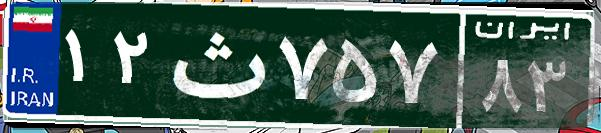1: (57, 26, 110, 107)
2: (110, 28, 158, 105)
3: (525, 38, 570, 115)
5: (330, 28, 385, 110)
7: (385, 28, 445, 110), (273, 28, 330, 110)
8: (475, 38, 525, 113)
ث: (158, 15, 273, 115)
